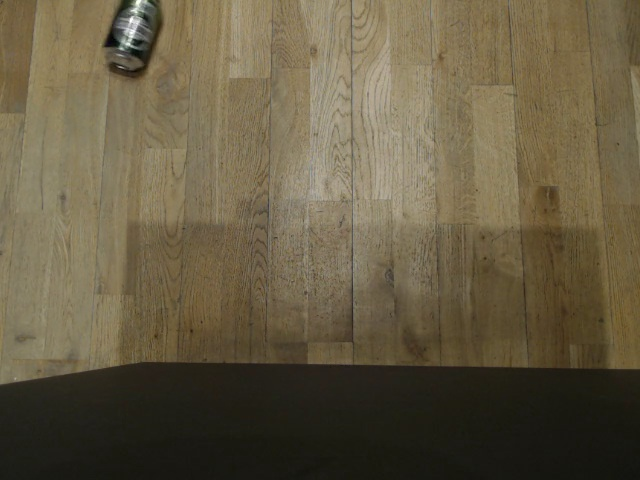beer: (100, 0, 162, 74)
